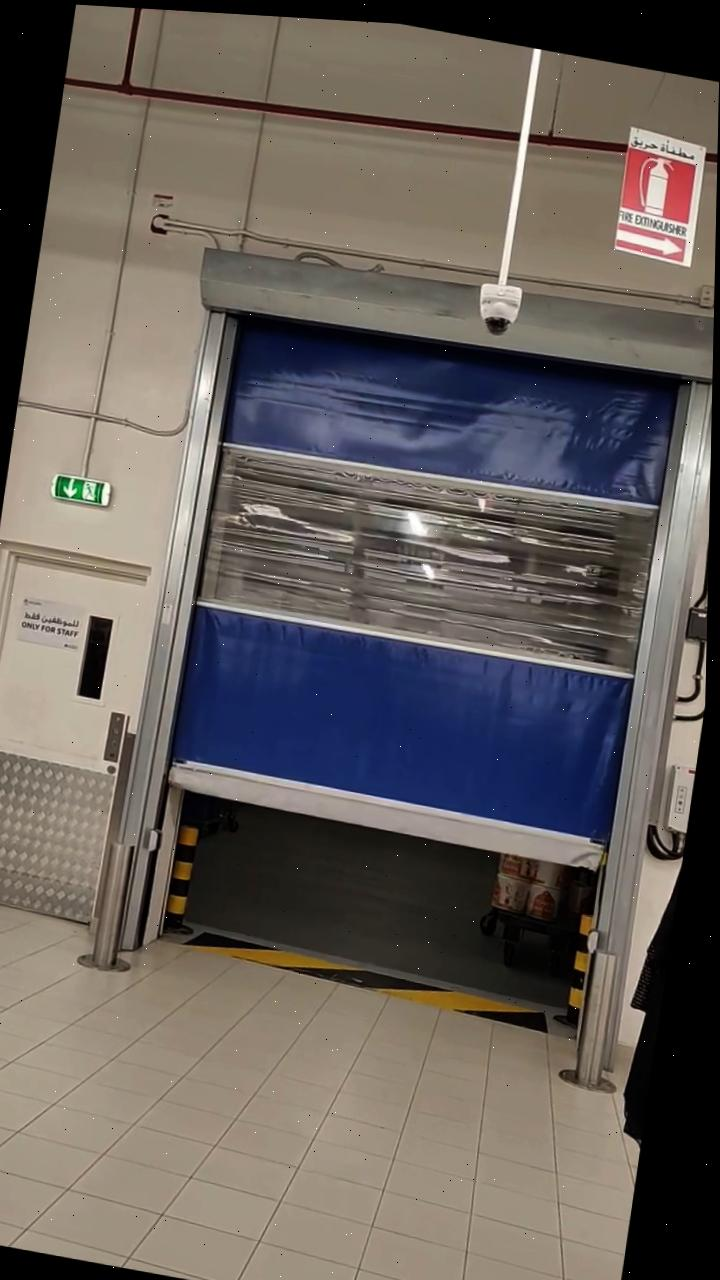Strip: (187, 912, 559, 1034)
